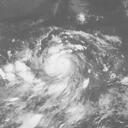cyclone: (23, 38, 88, 94)
